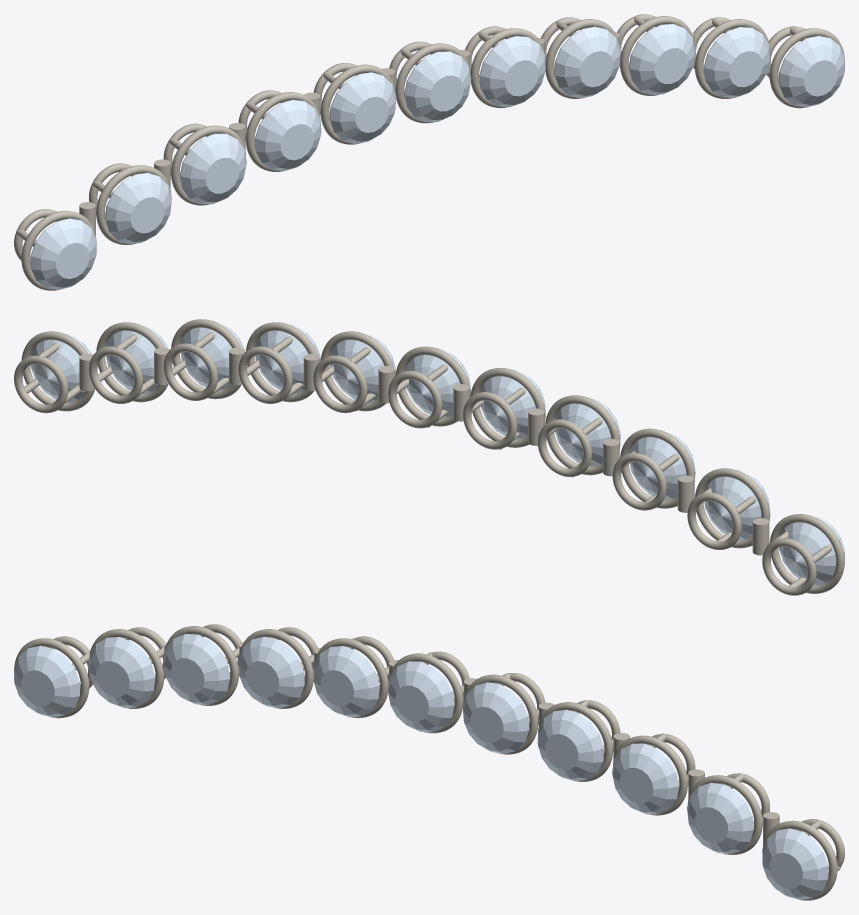
The model's file is bracelet.glb.
3 views of the same model, one above another, from view 1: azimuth 30°, elevation 25°; view 2: azimuth 150°, elevation 25°; view 3: azimuth 330°, elevation 25° (orthographic).
Visible parts, largest first — view 1: Articulated bracelet link concept; view 2: Articulated bracelet link concept; view 3: Articulated bracelet link concept.
Boxes of the visible parts, x1,y1,x2,y2 form: Articulated bracelet link concept: (14,14,844,290); Articulated bracelet link concept: (14,319,844,595); Articulated bracelet link concept: (14,624,844,900).
Bounding box in the file's own units: 3.96 × 0.706 × 0.2814.
